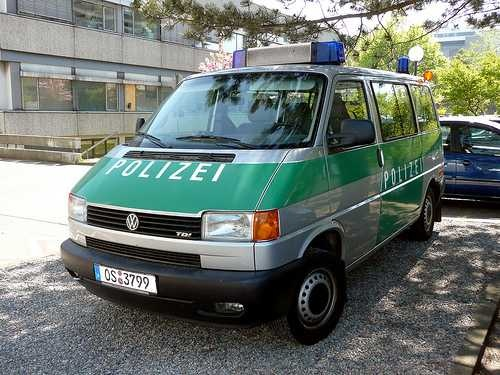Police Car: (62, 34, 460, 348)
